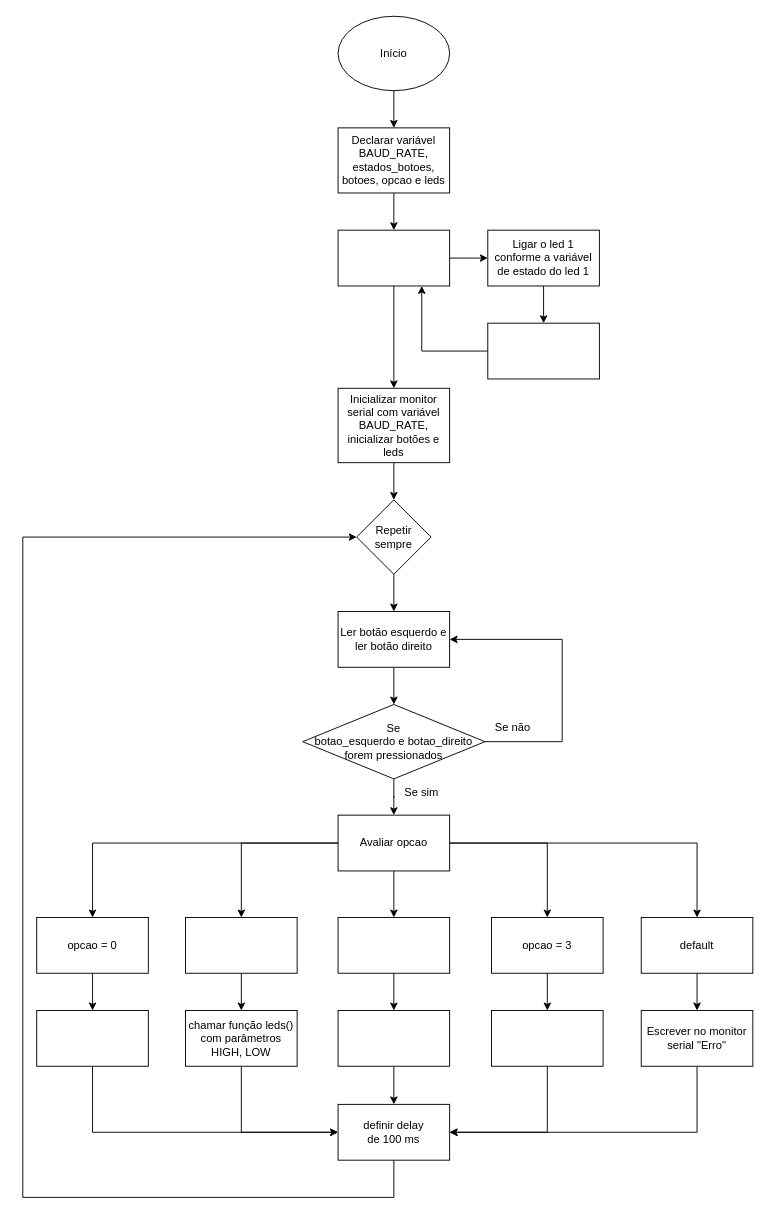
Some shapes in this 769 by 1221 pixel diagram are drawn without their labels. The shapes that lost their labels are listed below. From the top down, each one's box as (x1, y1, x2, y2) in pixels, then its label:
(337, 229, 450, 286): Definir função leds();
(487, 322, 599, 379): Ligar o led 2 conforme a variável de estado do led 2
(185, 917, 297, 973): opcao = 1
(337, 917, 450, 973): opcao = 2
(36, 1010, 148, 1066): chamar função leds() com parâmetros LOW, LOW
(337, 1010, 450, 1066): chamar função leds() com parâmetros LOW, HIGH
(491, 1010, 603, 1066): chamar função leds() com parâmetros HIGH, HIGH
